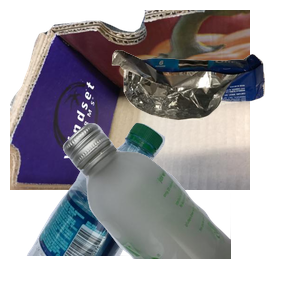cardboard: (10, 10, 250, 190)
glass: (60, 120, 300, 300)
plastic: (24, 120, 182, 300)
trash: (109, 47, 300, 160)
